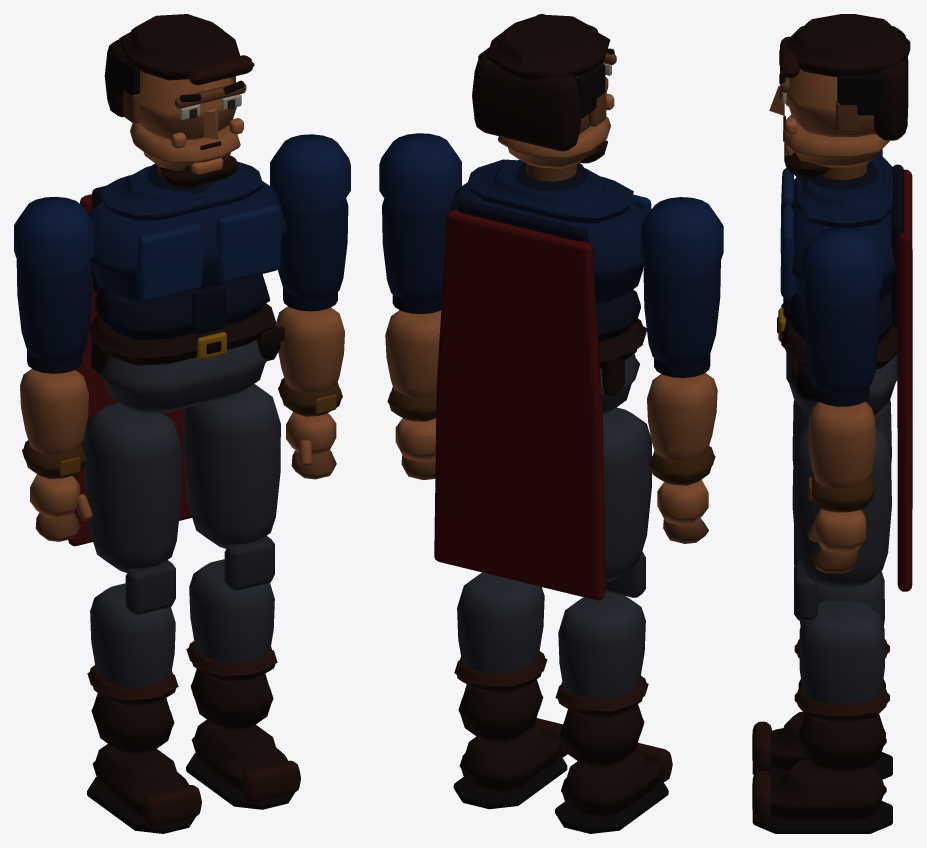
The model's file is GuardiaoRunicoBase.fbx.
3 renders of one model, left to right at view 1: azimuth 30°, elevation 25°; view 2: azimuth 150°, elevation 25°; view 3: azimuth 270°, elevation 25°, orthographic. The views are drawn at different scales.
Parts seen in each view (by area): view 1: Body, LegR, LegL, ArmR, ArmL, Head; view 2: Body, LegR, ArmR, LegL, ArmL, Head; view 3: LegL, ArmL, Body, Head, LegR.
Part boxes in pixels (x1=…): Body: x1=68, y1=161, x2=287, y2=546; LegR: x1=84, y1=402, x2=201, y2=833; LegL: x1=183, y1=384, x2=300, y2=809; ArmR: x1=14, y1=196, x2=94, y2=541; ArmL: x1=270, y1=134, x2=350, y2=479; Head: x1=104, y1=14, x2=254, y2=188; Body: x1=434, y1=159, x2=651, y2=600; LegR: x1=555, y1=407, x2=672, y2=833; ArmR: x1=641, y1=197, x2=723, y2=543; LegL: x1=453, y1=572, x2=567, y2=809; ArmL: x1=379, y1=133, x2=461, y2=479; Head: x1=472, y1=14, x2=616, y2=181; LegL: x1=752, y1=425, x2=892, y2=833; ArmL: x1=802, y1=227, x2=882, y2=573; Body: x1=777, y1=154, x2=912, y2=591; Head: x1=769, y1=14, x2=910, y2=179; LegR: x1=752, y1=400, x2=892, y2=779.
Size of the model in its own units: 0.7867 by 1.74 by 0.3318.
